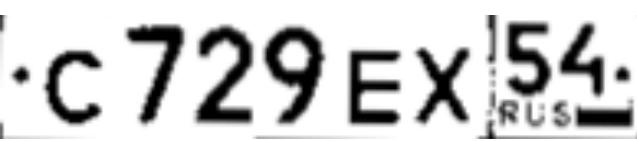license-plateSW: (0, 8, 637, 141)
